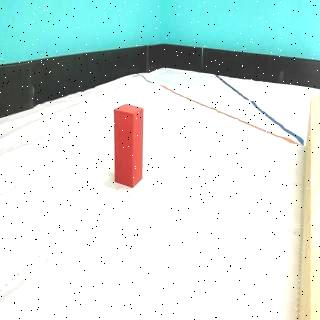redbox: (112, 101, 143, 188)
